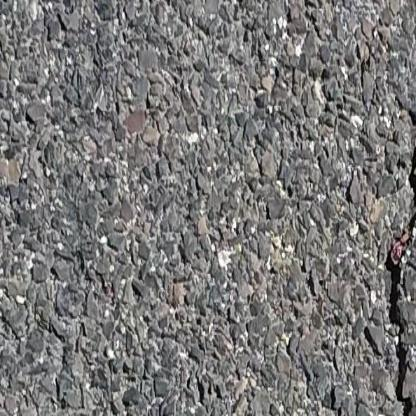Cracks: (355, 83, 416, 416)
